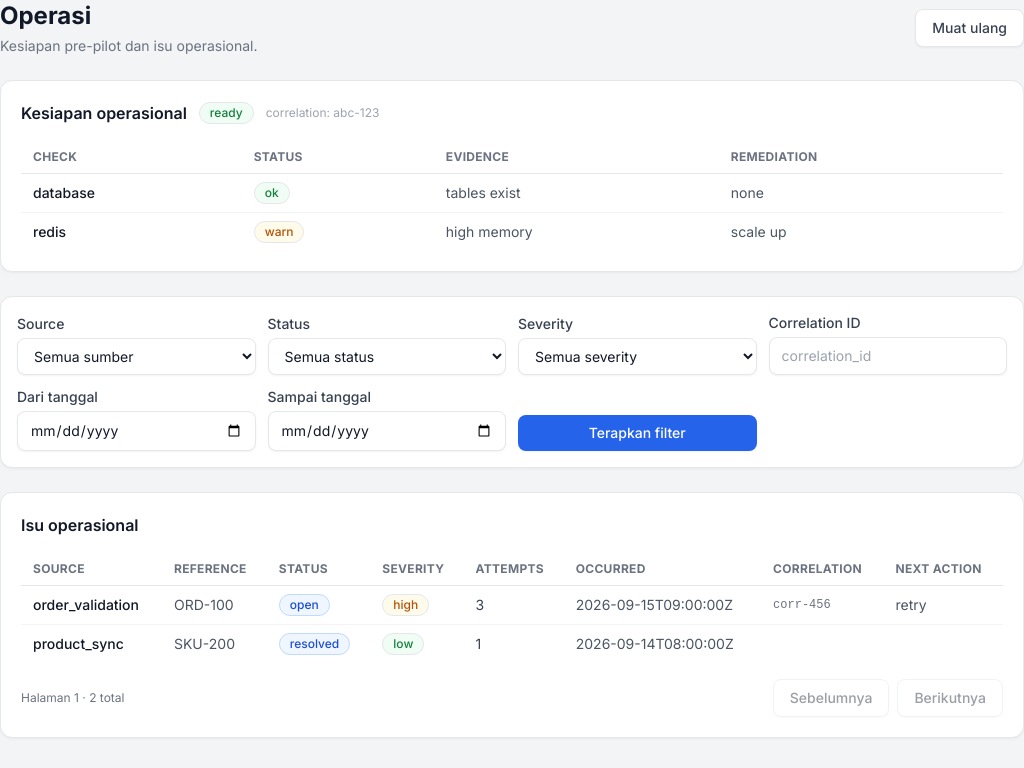
it: operations page › opens detail modal when clicking an issue row
Expected: the text "ORD-100" is shown, [162,586,267,624]
What coordinates should you click on to do the following:
click the text "ORD-100"
I would click on:
 (86, 604)
Its box is [21,586,1003,624].
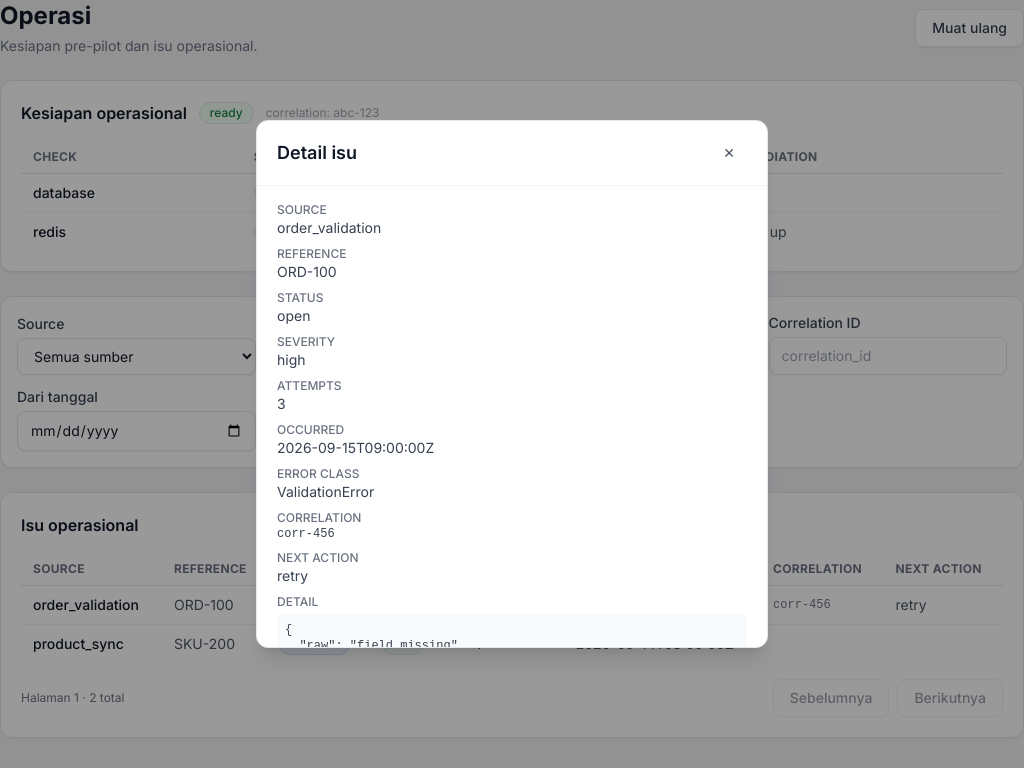
Result: the heading "Detail isu" is shown at [277,139,357,167]
Result: the text "ValidationError" is shown at [277,483,374,500]
